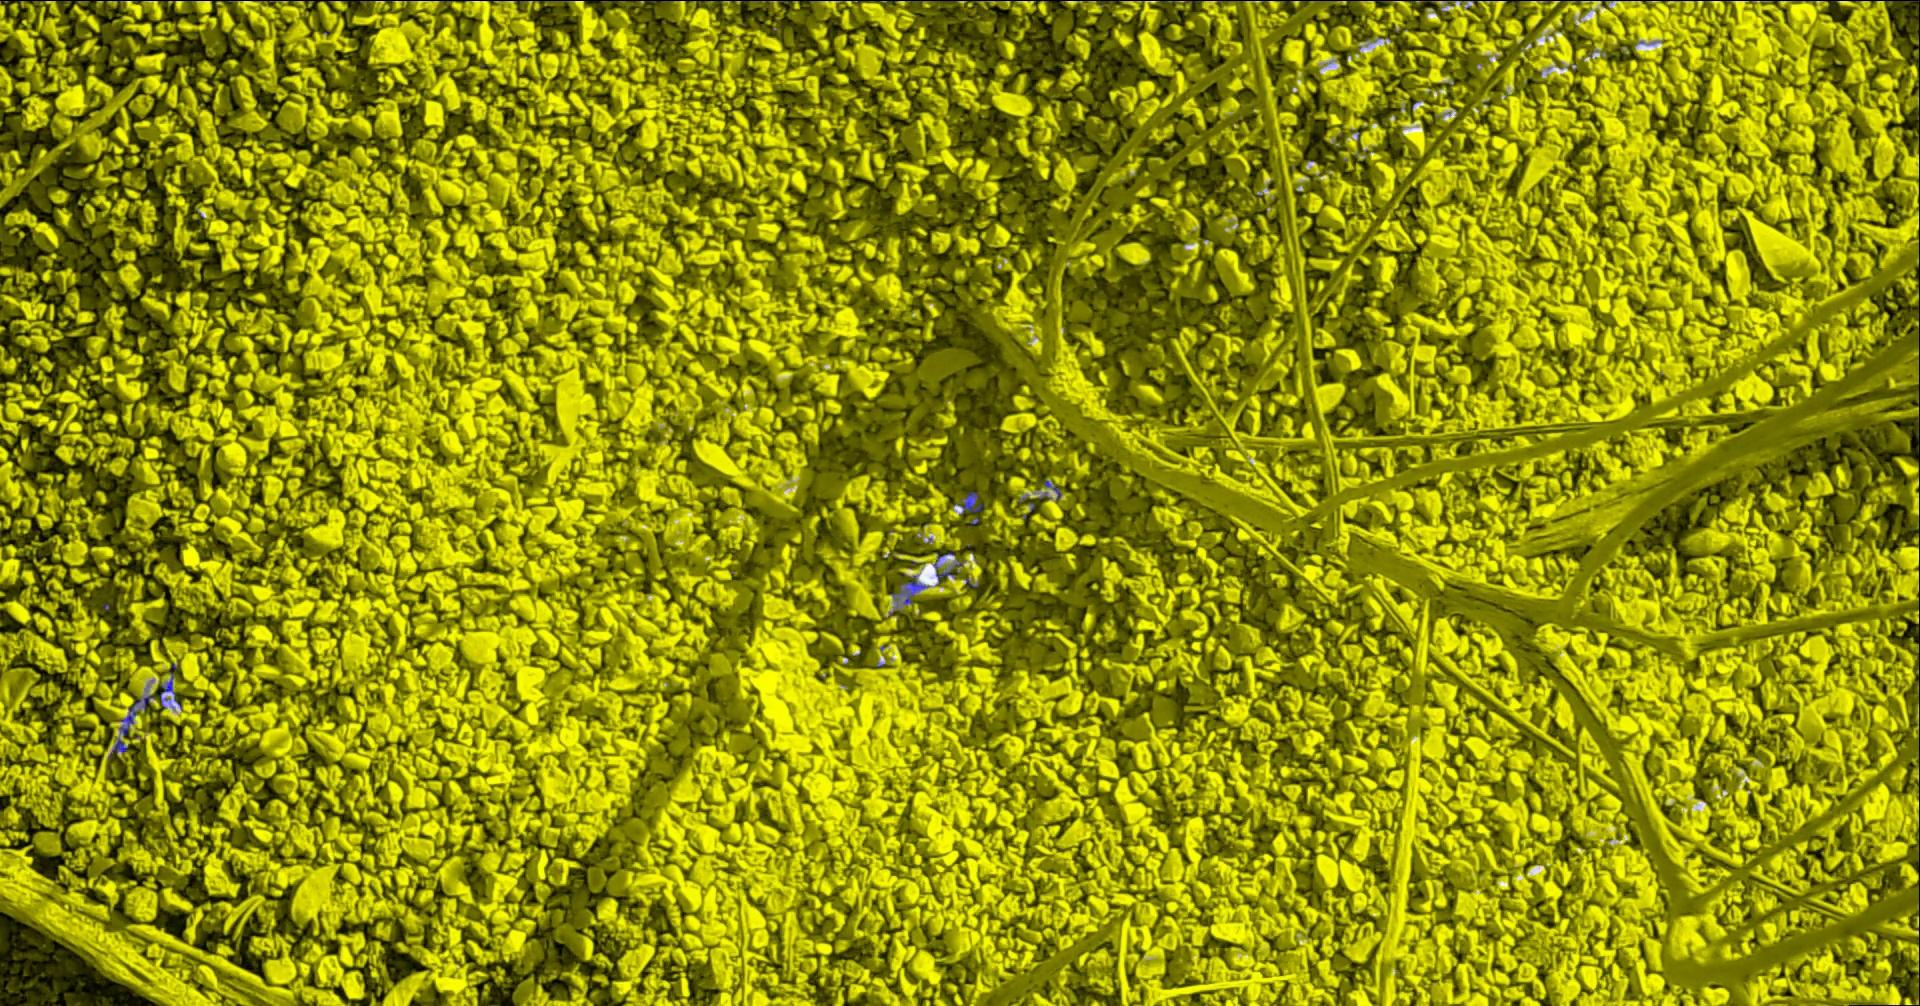ant: (119, 694, 154, 735), (889, 575, 928, 603), (159, 663, 182, 709), (952, 492, 983, 514), (933, 551, 954, 582), (107, 738, 127, 760), (1043, 479, 1062, 499)
